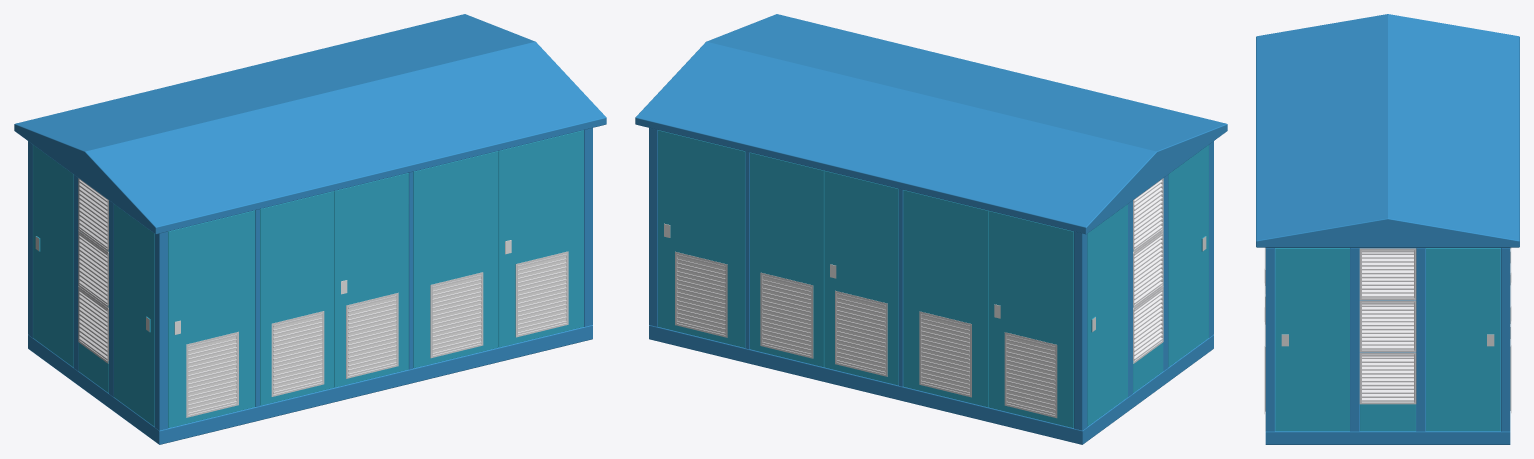
The picture shows the model from 3 angles, left to right: view 1: azimuth 30°, elevation 25°; view 2: azimuth 150°, elevation 25°; view 3: azimuth 270°, elevation 25°; orthographic projection. The views are drawn at different scales.
Parts seen in each view (by area): view 1: |16T0充电桩简版1|Root|16T0简版1-1|blue, |16T0充电桩简版1|Root|16T0简版1-1|blue-2, |16T0充电桩简版1|Root|16T0简版1-1|color-3, |16T0充电桩简版1|Root|16T0简版1-1|color(Legacy), |16T0充电桩简版1|Root|防雨百叶窗1-4|satin_finish_aluminum-2, |16T0充电桩简版1|Root|防雨百叶窗1-5|satin_finish_aluminum-2, |16T0充电桩简版1|Root|防雨百叶窗1-2|satin_finish_aluminum-2, |16T0充电桩简版1|Root|防雨百叶窗1-1|satin_finish_aluminum-2, |16T0充电桩简版1|Root|防雨百叶窗1-3|satin_finish_aluminum-2, |16T0充电桩简版1|Root|防雨百叶窗11-2|satin_finish_aluminum, |16T0充电桩简版1|Root|防雨百叶窗11-3|satin_finish_aluminum, |16T0充电桩简版1|Root|防雨百叶窗11-1|satin_finish_aluminum; view 2: |16T0充电桩简版1|Root|16T0简版1-1|blue, |16T0充电桩简版1|Root|16T0简版1-1|color-4, |16T0充电桩简版1|Root|16T0简版1-1|color-3, |16T0充电桩简版1|Root|16T0简版1-1|blue-2, |16T0充电桩简版1|Root|16T0简版1-1|color(Legacy), |16T0充电桩简版1|Root|防雨百叶窗1-12|satin_finish_aluminum-2, |16T0充电桩简版1|Root|防雨百叶窗1-9|satin_finish_aluminum-2, |16T0充电桩简版1|Root|防雨百叶窗1-7|satin_finish_aluminum-2, |16T0充电桩简版1|Root|防雨百叶窗1-10|satin_finish_aluminum-2, |16T0充电桩简版1|Root|防雨百叶窗1-11|satin_finish_aluminum-2, |16T0充电桩简版1|Root|防雨百叶窗11-2|satin_finish_aluminum, |16T0充电桩简版1|Root|防雨百叶窗11-3|satin_finish_aluminum (+1 smaller); view 3: |16T0充电桩简版1|Root|16T0简版1-1|blue, |16T0充电桩简版1|Root|16T0简版1-1|color-2, |16T0充电桩简版1|Root|16T0简版1-1|color(Legacy), |16T0充电桩简版1|Root|防雨百叶窗11-6|satin_finish_aluminum, |16T0充电桩简版1|Root|防雨百叶窗11-4|satin_finish_aluminum, |16T0充电桩简版1|Root|防雨百叶窗11-5|satin_finish_aluminum.
Part boxes in pixels (x1=…): |16T0充电桩简版1|Root|16T0简版1-1|blue: x1=14, y1=14, x2=606, y2=444; |16T0充电桩简版1|Root|16T0简版1-1|blue-2: x1=33, y1=130, x2=583, y2=427; |16T0充电桩简版1|Root|16T0简版1-1|color-3: x1=174, y1=240, x2=566, y2=414; |16T0充电桩简版1|Root|16T0简版1-1|color(Legacy): x1=114, y1=204, x2=154, y2=426; |16T0充电桩简版1|Root|防雨百叶窗1-4|satin_finish_aluminum-2: x1=430, y1=272, x2=483, y2=358; |16T0充电桩简版1|Root|防雨百叶窗1-5|satin_finish_aluminum-2: x1=515, y1=251, x2=568, y2=337; |16T0充电桩简版1|Root|防雨百叶窗1-2|satin_finish_aluminum-2: x1=271, y1=311, x2=324, y2=396; |16T0充电桩简版1|Root|防雨百叶窗1-1|satin_finish_aluminum-2: x1=186, y1=331, x2=238, y2=417; |16T0充电桩简版1|Root|防雨百叶窗1-3|satin_finish_aluminum-2: x1=346, y1=292, x2=398, y2=378; |16T0充电桩简版1|Root|防雨百叶窗11-2|satin_finish_aluminum: x1=78, y1=230, x2=108, y2=307; |16T0充电桩简版1|Root|防雨百叶窗11-3|satin_finish_aluminum: x1=78, y1=286, x2=108, y2=363; |16T0充电桩简版1|Root|防雨百叶窗11-1|satin_finish_aluminum: x1=78, y1=178, x2=108, y2=251; |16T0充电桩简版1|Root|16T0简版1-1|blue: x1=635, y1=14, x2=1227, y2=444; |16T0充电桩简版1|Root|16T0简版1-1|color-4: x1=658, y1=130, x2=1073, y2=427; |16T0充电桩简版1|Root|16T0简版1-1|color-3: x1=664, y1=223, x2=1055, y2=415; |16T0充电桩简版1|Root|16T0简版1-1|blue-2: x1=1087, y1=204, x2=1163, y2=426; |16T0充电桩简版1|Root|16T0简版1-1|color(Legacy): x1=1168, y1=145, x2=1208, y2=367; |16T0充电桩简版1|Root|防雨百叶窗1-12|satin_finish_aluminum-2: x1=1004, y1=332, x2=1057, y2=418; |16T0充电桩简版1|Root|防雨百叶窗1-9|satin_finish_aluminum-2: x1=760, y1=272, x2=813, y2=358; |16T0充电桩简版1|Root|防雨百叶窗1-7|satin_finish_aluminum-2: x1=675, y1=251, x2=727, y2=337; |16T0充电桩简版1|Root|防雨百叶窗1-10|satin_finish_aluminum-2: x1=835, y1=290, x2=887, y2=376; |16T0充电桩简版1|Root|防雨百叶窗1-11|satin_finish_aluminum-2: x1=919, y1=311, x2=971, y2=397; |16T0充电桩简版1|Root|防雨百叶窗11-2|satin_finish_aluminum: x1=1133, y1=230, x2=1163, y2=307; |16T0充电桩简版1|Root|防雨百叶窗11-3|satin_finish_aluminum: x1=1133, y1=286, x2=1163, y2=363; |16T0充电桩简版1|Root|16T0简版1-1|blue: x1=1256, y1=14, x2=1519, y2=444; |16T0充电桩简版1|Root|16T0简版1-1|color-2: x1=1360, y1=248, x2=1500, y2=431; |16T0充电桩简版1|Root|16T0简版1-1|color(Legacy): x1=1275, y1=248, x2=1500, y2=431; |16T0充电桩简版1|Root|防雨百叶窗11-6|satin_finish_aluminum: x1=1359, y1=352, x2=1416, y2=404; |16T0充电桩简版1|Root|防雨百叶窗11-4|satin_finish_aluminum: x1=1359, y1=248, x2=1416, y2=299; |16T0充电桩简版1|Root|防雨百叶窗11-5|satin_finish_aluminum: x1=1359, y1=300, x2=1416, y2=351.
Size of the model in its own units: 5.15 by 2.7 by 2.8.
